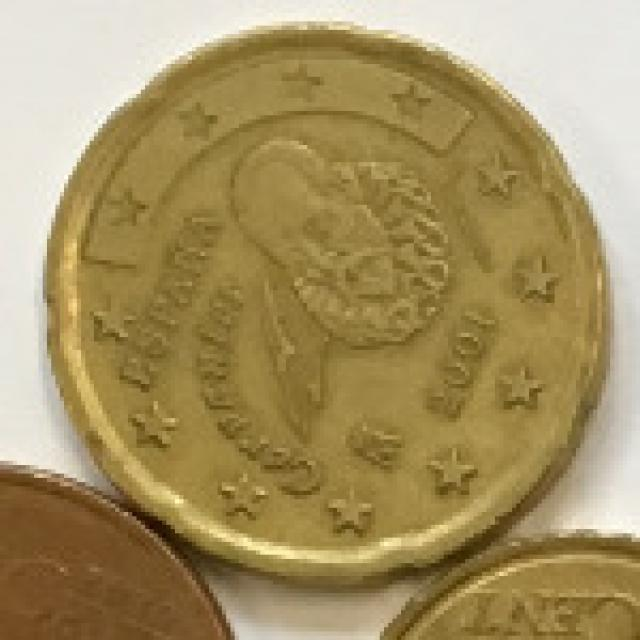20c: (43, 26, 623, 584)
